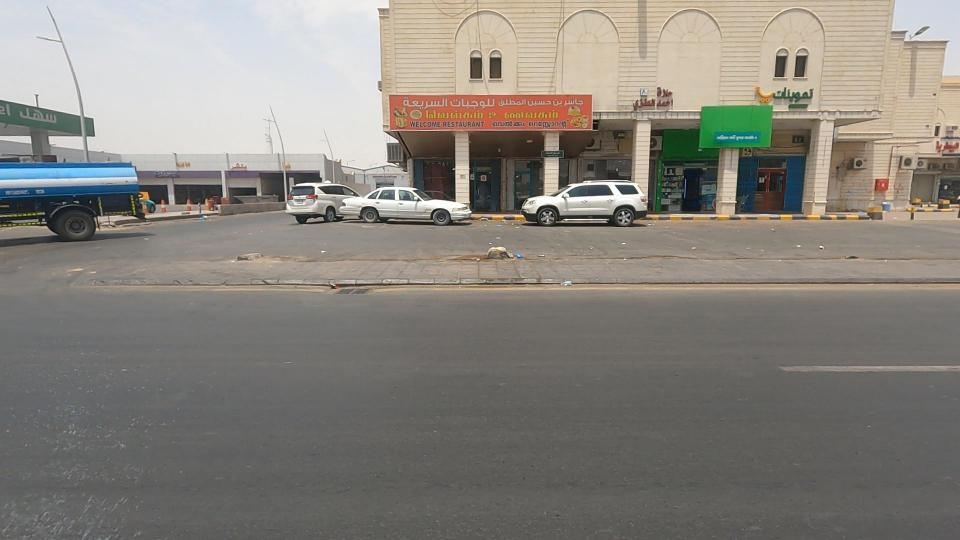GARBAGE: (438, 218, 557, 289), (540, 259, 594, 306)
